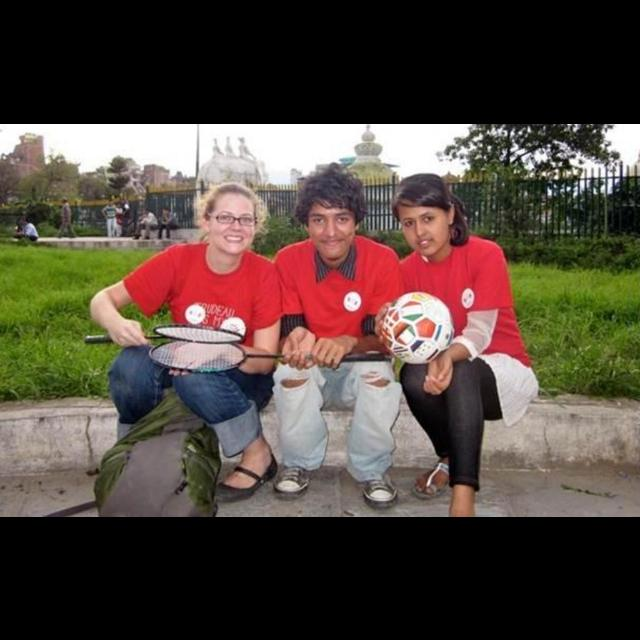Football: (378, 290, 452, 362)
